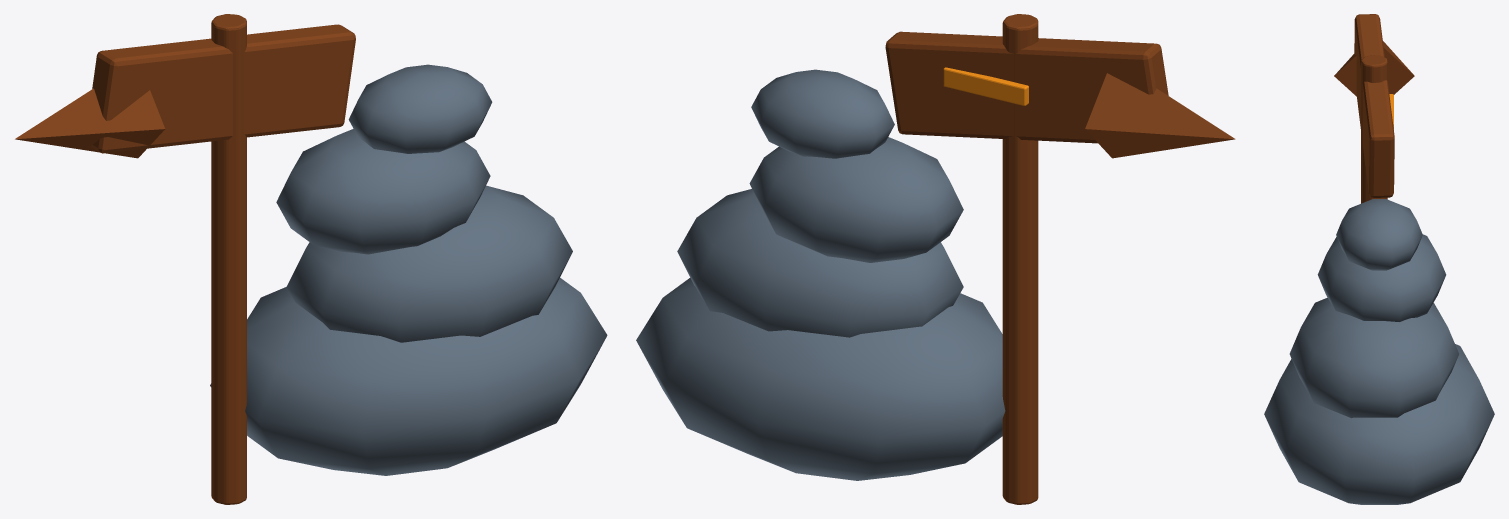
The model's file is ranger_wayfinding_cairn.obj.
3 renders of one model, left to right at view 1: azimuth 30°, elevation 25°; view 2: azimuth 150°, elevation 25°; view 3: azimuth 270°, elevation 25°, orthographic. The views are drawn at different scales.
Visible parts, largest first — view 1: ow_cairn_rock_0_M_stone, ow_cairn_rock_1_M_stone, ow_cairn_signboard_M_wood, ow_cairn_rock_2_M_stone, ow_cairn_signpost_M_wood, ow_cairn_rock_3_M_stone, ow_cairn_sign_tip_M_wood; view 2: ow_cairn_rock_0_M_stone, ow_cairn_rock_1_M_stone, ow_cairn_signboard_M_wood, ow_cairn_rock_2_M_stone, ow_cairn_signpost_M_wood, ow_cairn_rock_3_M_stone, ow_cairn_sign_tip_M_wood, ow_cairn_mark_M_gold; view 3: ow_cairn_rock_0_M_stone, ow_cairn_rock_1_M_stone, ow_cairn_rock_2_M_stone, ow_cairn_signboard_M_wood, ow_cairn_rock_3_M_stone, ow_cairn_sign_tip_M_wood, ow_cairn_signpost_M_wood.
Part boxes in pixels (bbox=[...]): ow_cairn_rock_0_M_stone: bbox=[210, 278, 607, 475]; ow_cairn_rock_1_M_stone: bbox=[286, 185, 572, 342]; ow_cairn_signboard_M_wood: bbox=[91, 24, 355, 153]; ow_cairn_rock_2_M_stone: bbox=[276, 129, 490, 254]; ow_cairn_signpost_M_wood: bbox=[211, 14, 246, 504]; ow_cairn_rock_3_M_stone: bbox=[348, 64, 492, 153]; ow_cairn_sign_tip_M_wood: bbox=[15, 88, 165, 158]; ow_cairn_rock_0_M_stone: bbox=[636, 278, 1005, 480]; ow_cairn_rock_1_M_stone: bbox=[677, 189, 963, 337]; ow_cairn_signboard_M_wood: bbox=[885, 31, 1168, 143]; ow_cairn_rock_2_M_stone: bbox=[749, 137, 963, 262]; ow_cairn_signpost_M_wood: bbox=[1002, 14, 1038, 504]; ow_cairn_rock_3_M_stone: bbox=[751, 69, 894, 158]; ow_cairn_sign_tip_M_wood: bbox=[1085, 73, 1235, 158]; ow_cairn_mark_M_gold: bbox=[943, 67, 1028, 105]; ow_cairn_rock_0_M_stone: bbox=[1264, 344, 1494, 504]; ow_cairn_rock_1_M_stone: bbox=[1289, 297, 1458, 418]; ow_cairn_rock_2_M_stone: bbox=[1317, 234, 1446, 321]; ow_cairn_signboard_M_wood: bbox=[1354, 14, 1394, 197]; ow_cairn_rock_3_M_stone: bbox=[1336, 199, 1422, 270]; ow_cairn_sign_tip_M_wood: bbox=[1334, 41, 1414, 96]; ow_cairn_signpost_M_wood: bbox=[1361, 55, 1387, 203].
Bounding box in the file's own units: 1.94 × 1.55 × 0.912.
